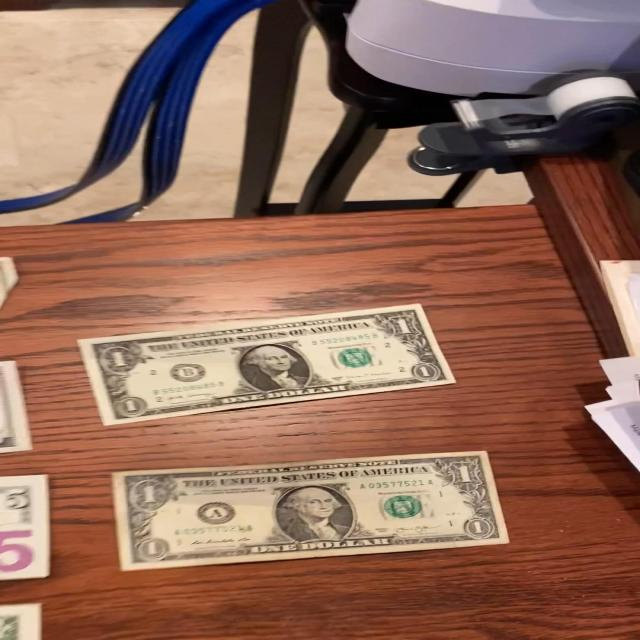1-Front: (74, 293, 472, 432), (107, 447, 516, 576)
